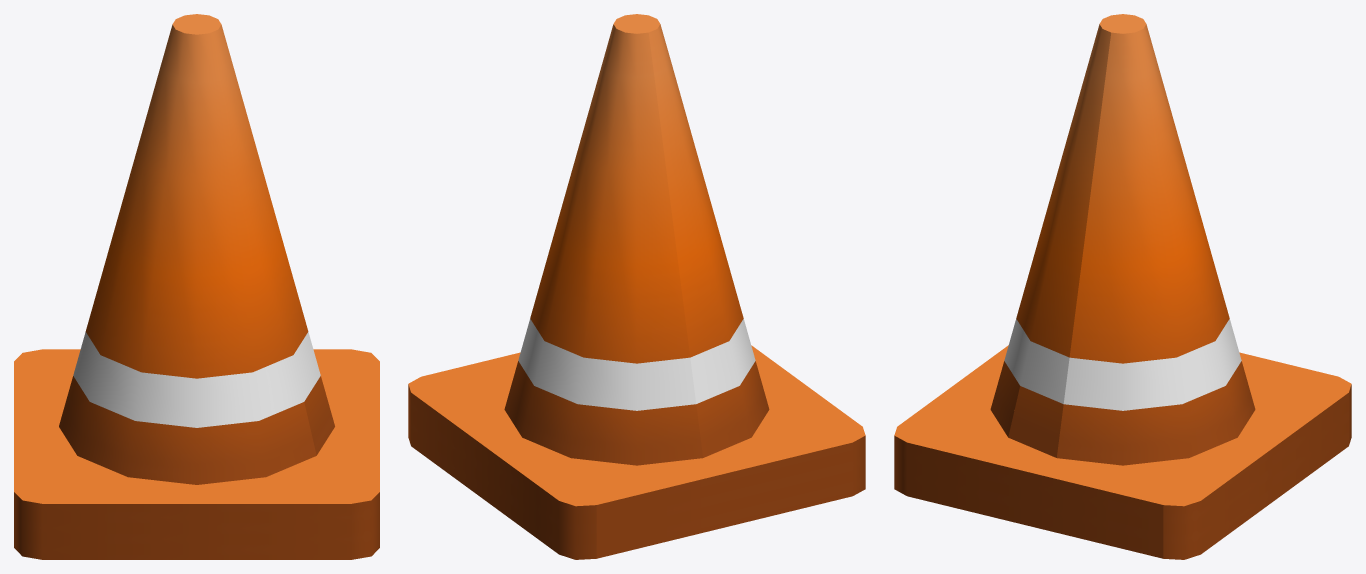
3 views of the same model, side by side, from view 1: azimuth 30°, elevation 25°; view 2: azimuth 150°, elevation 25°; view 3: azimuth 270°, elevation 25° (orthographic). The views are drawn at different scales.
Visible parts, largest first — view 1: Props_Color_1_Mat.033; view 2: Props_Color_1_Mat.033; view 3: Props_Color_1_Mat.033.
Boxes of the visible parts, x1,y1,x2,y2 form: Props_Color_1_Mat.033: (14, 14, 379, 559); Props_Color_1_Mat.033: (408, 14, 865, 559); Props_Color_1_Mat.033: (894, 14, 1351, 559).
Bounding box in the file's own units: 49.25 × 52.23 × 49.26.
1 material, 1 textured.
